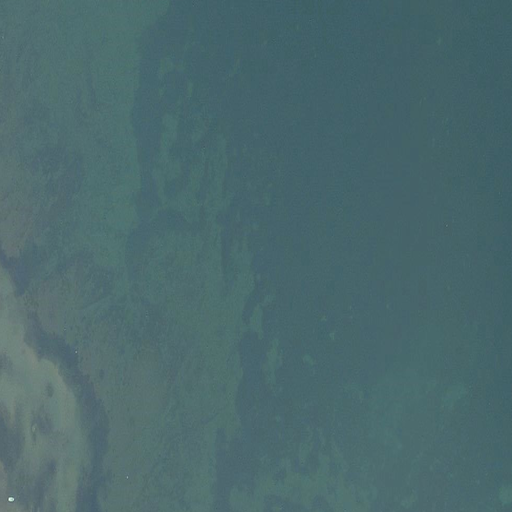ship: (8, 496, 16, 504)
